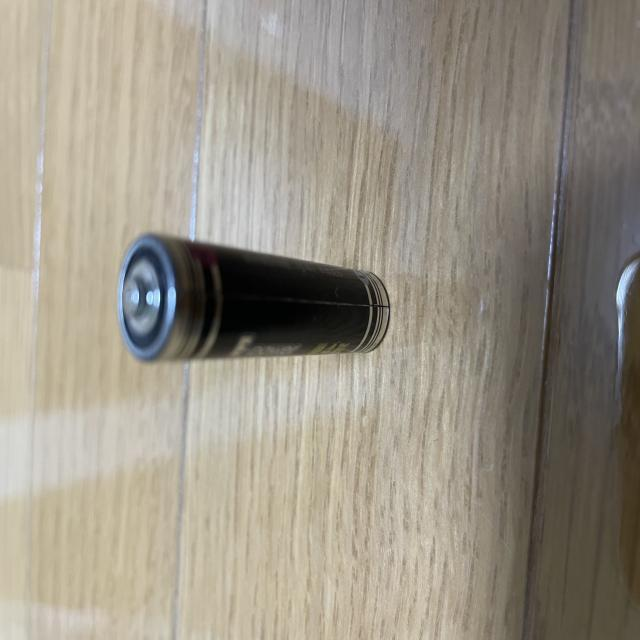hazardous waste: (106, 214, 400, 378)
